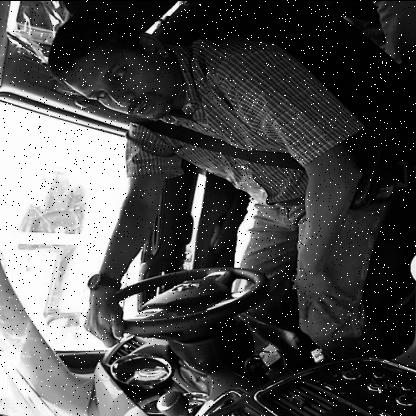seatbelt: (22, 3, 276, 186)
